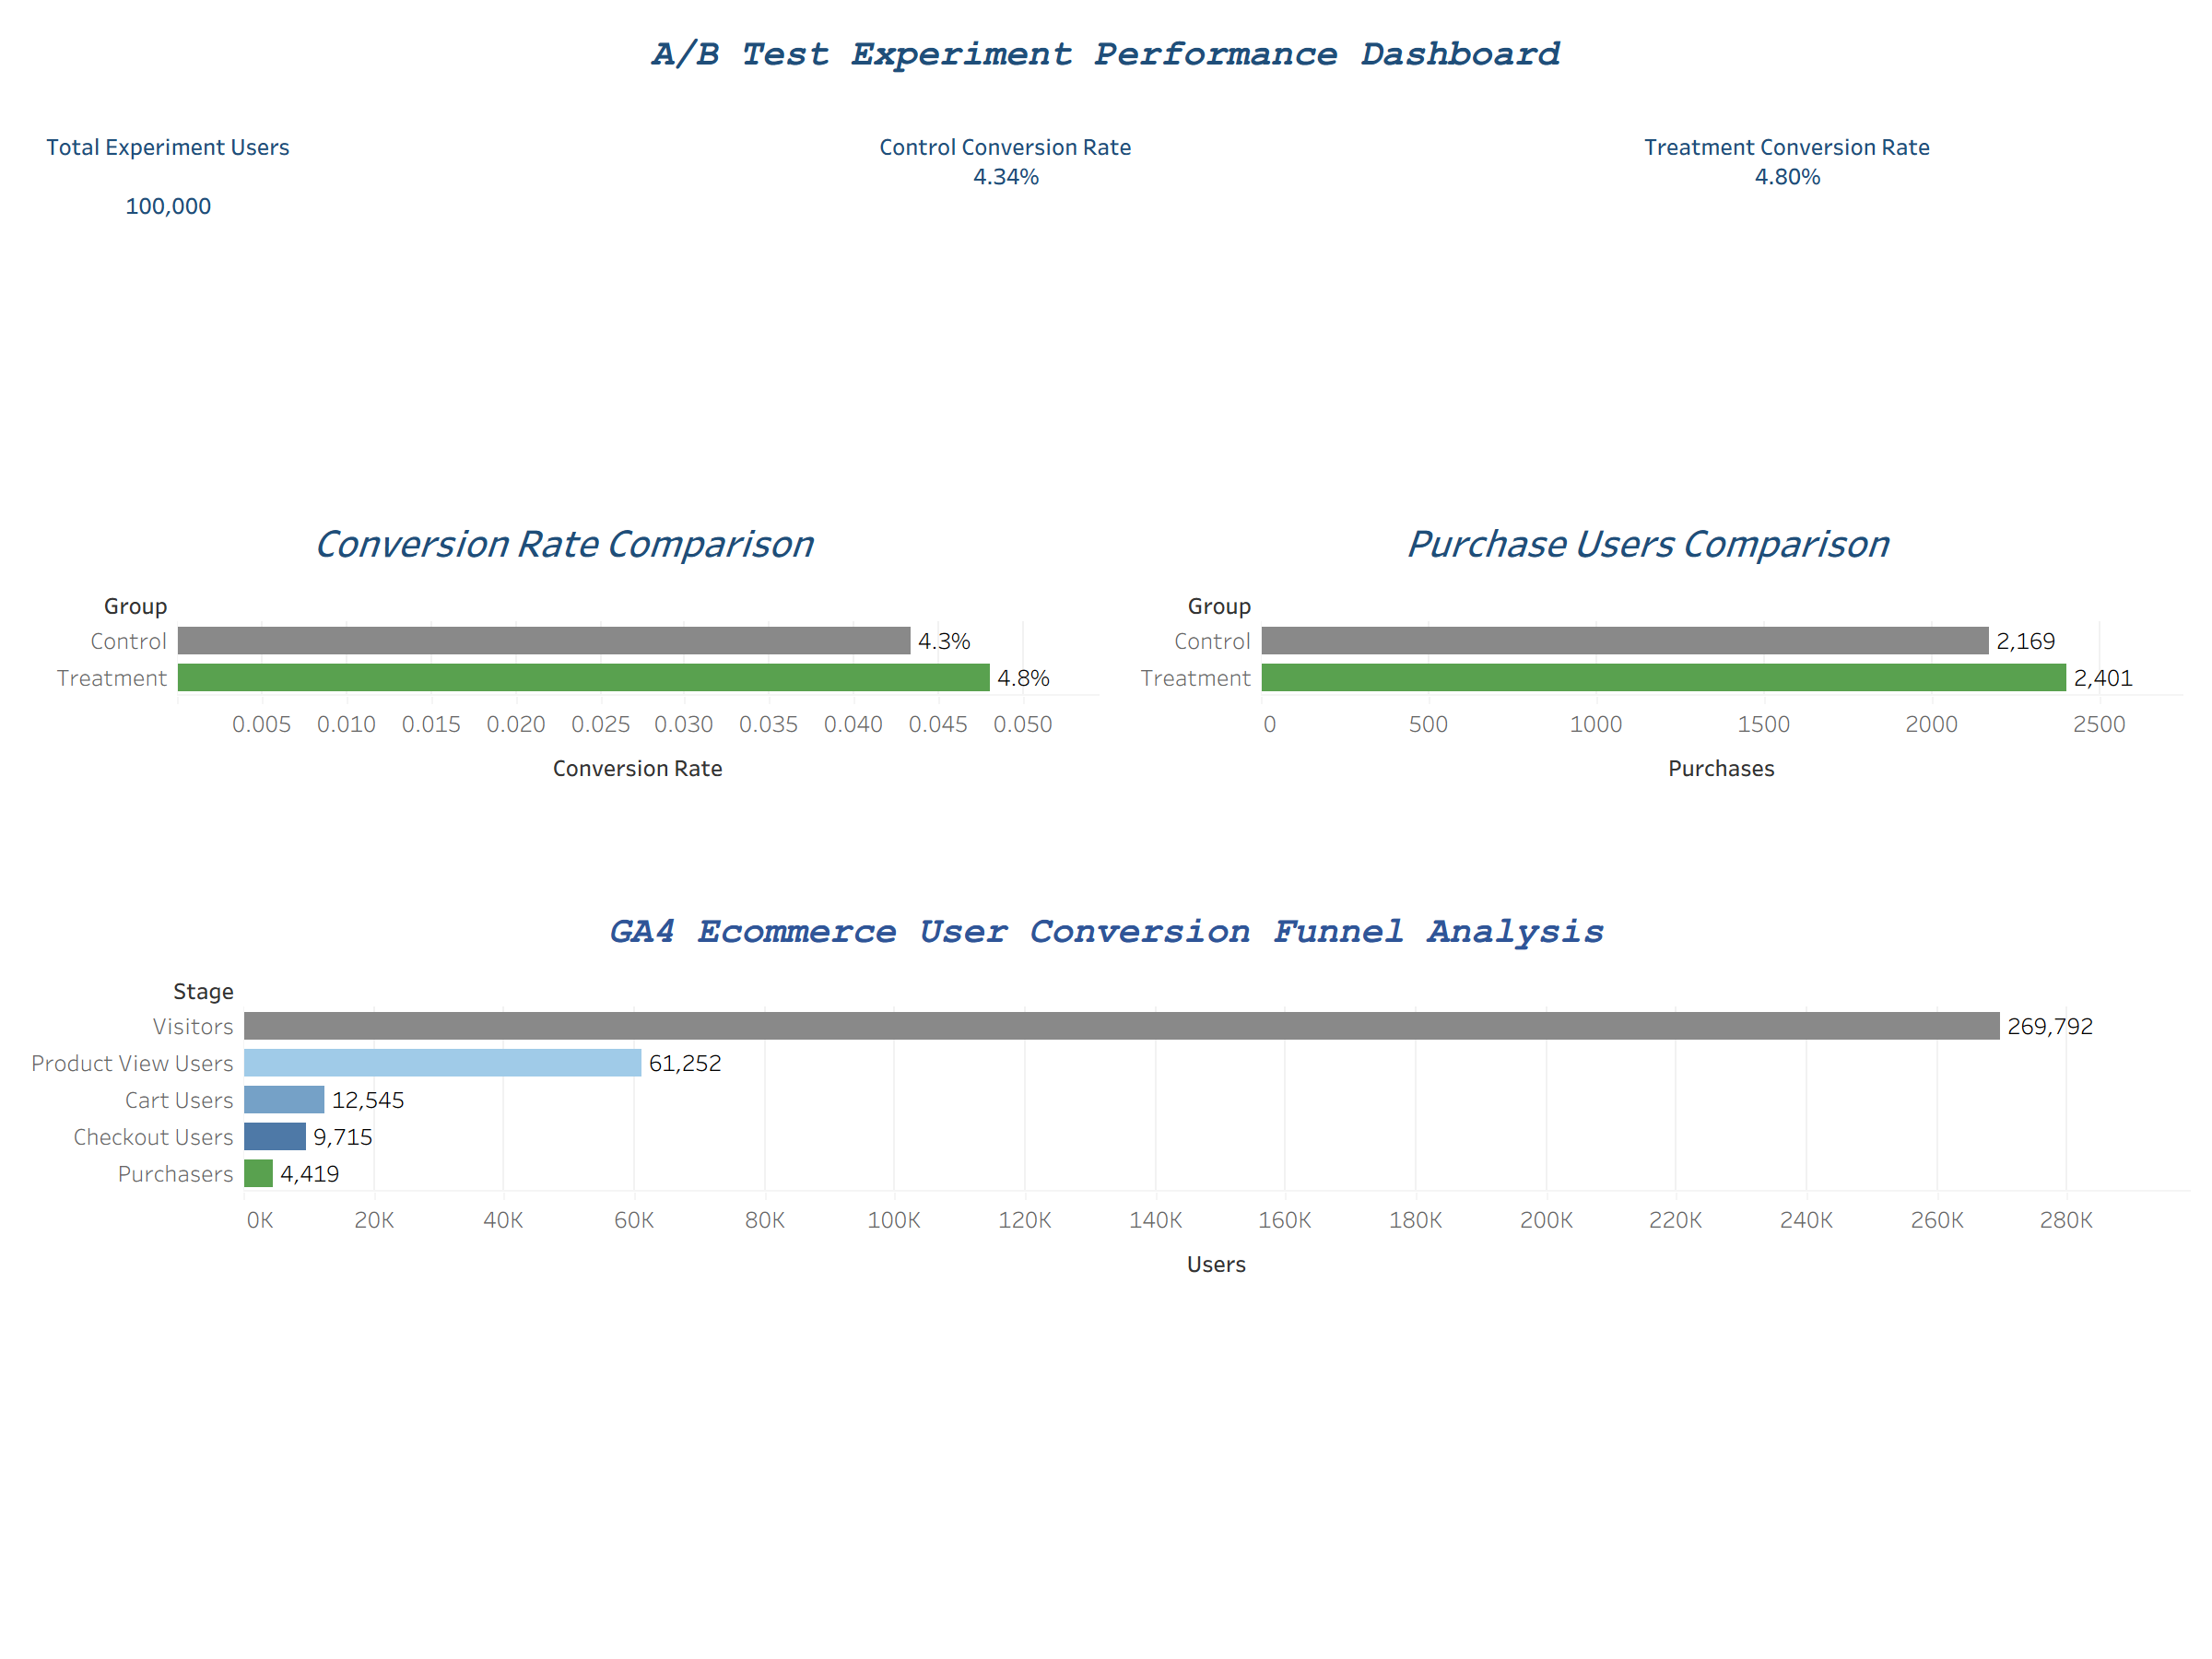

What the dashboard file says about the page in this screenshot:
{"tool":"tableau","page":{"name":"AB Test Experiment Performance Dashboard","canvas":[1200,900],"ordinal":0},"visuals":[{"type":"text","box":[8,8,1184,44]},{"type":"worksheet","title":"04_AB_Test_KPI_Total_Users","mark":"Automatic","box":[8,52,454,214]},{"type":"worksheet","title":"05_AB_Test_KPI_Control_CVR","mark":"Automatic","box":[462,52,414,214]},{"type":"worksheet","title":"06_AB_Test_KPI_Treatment_CVR","mark":"Automatic","box":[876,52,316,214]},{"type":"worksheet","title":"02_Conversion_Rate_Comparison","mark":"Automatic","rows":["group"],"cols":["conversion_rate"],"box":[12,270,588,210]},{"type":"worksheet","title":"03_Purchase_Users_Comparison","mark":"Automatic","rows":["group"],"cols":["purchases"],"box":[600,270,588,210]},{"type":"worksheet","title":"01_User_Conversion_Funnel","mark":"Automatic","rows":["转置字段名称"],"cols":["转置字段值"],"box":[8,484,1184,376]}]}

Visuals, with their boxes in screenshot pixels (x1, y1, x2, y2), scaled from the page's 1200x900 canvas onto the 2212x1659 screenshot:
text: BBox(15, 15, 2197, 96)
"04_AB_Test_KPI_Total_Users" worksheet: BBox(15, 96, 852, 490)
"05_AB_Test_KPI_Control_CVR" worksheet: BBox(852, 96, 1615, 490)
"06_AB_Test_KPI_Treatment_CVR" worksheet: BBox(1615, 96, 2197, 490)
"02_Conversion_Rate_Comparison" worksheet: BBox(22, 498, 1106, 885)
"03_Purchase_Users_Comparison" worksheet: BBox(1106, 498, 2190, 885)
"01_User_Conversion_Funnel" worksheet: BBox(15, 892, 2197, 1585)
